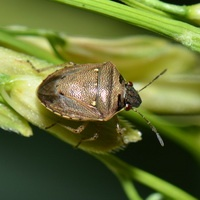insect: (37, 61, 141, 120)
